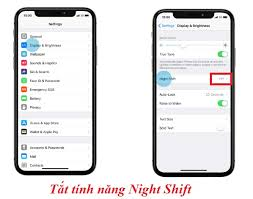iphone: (11, 5, 97, 176), (151, 7, 235, 178)
iphone10: (11, 5, 97, 176), (150, 6, 234, 177)
